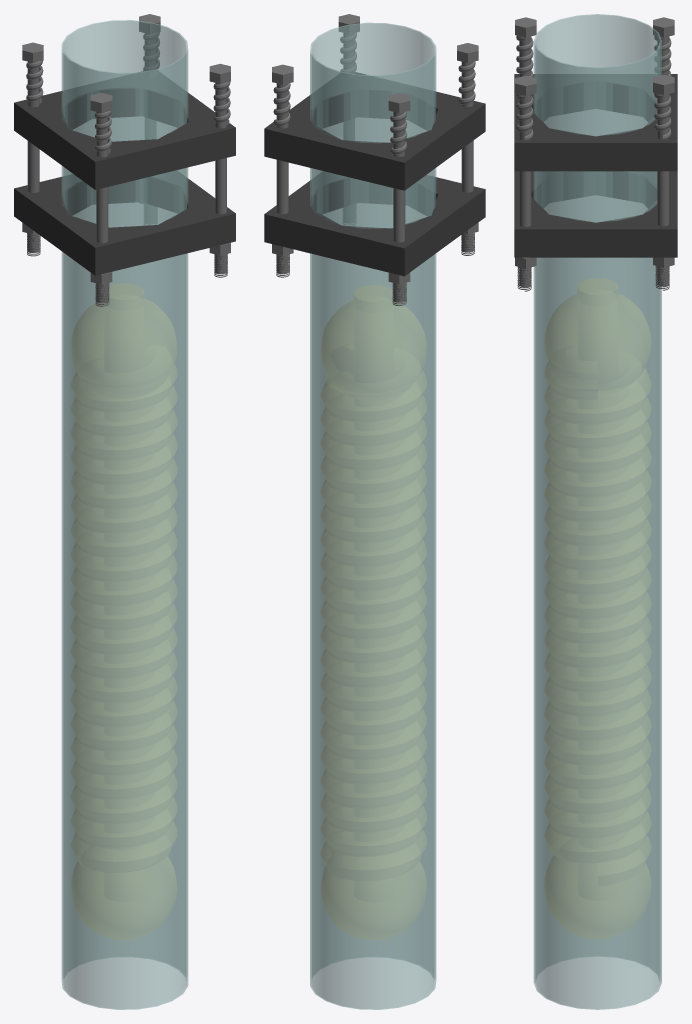
File: productcooler.fbx
3 views of the same model, side by side, from view 1: azimuth 30°, elevation 25°; view 2: azimuth 150°, elevation 25°; view 3: azimuth 270°, elevation 25° (orthographic).
Visible parts, largest first — view 1: pPipe1, pHelix1, pPipe3, pPipe2, pSphere1, pCylinder2 (×3), pSphere2; view 2: pPipe1, pHelix1, pPipe3, pPipe2, pSphere1, pCylinder2 (×3), pSphere2; view 3: pPipe1, pHelix1, pPipe3, pPipe2, pSphere1, pSphere2, pCylinder2 (×2), pDisc1 (×4), pHelix4 (×3), pCylinder1.
Boxes of the visible parts, left/top/right/bottom form: pPipe1: left=61, top=20, right=188, bottom=1009; pHelix1: left=71, top=365, right=176, bottom=872; pPipe3: left=14, top=71, right=235, bottom=189; pPipe2: left=14, top=171, right=235, bottom=275; pSphere1: left=71, top=857, right=176, bottom=939; pCylinder2 (×3): left=27, top=61, right=226, bottom=302; pSphere2: left=71, top=299, right=176, bottom=373; pPipe1: left=310, top=22, right=436, bottom=1009; pHelix1: left=321, top=371, right=426, bottom=880; pPipe3: left=264, top=72, right=485, bottom=190; pPipe2: left=264, top=172, right=485, bottom=276; pSphere1: left=321, top=862, right=426, bottom=939; pCylinder2 (×3): left=276, top=62, right=473, bottom=301; pSphere2: left=321, top=301, right=426, bottom=381; pPipe1: left=533, top=14, right=661, bottom=1009; pHelix1: left=545, top=363, right=650, bottom=866; pPipe3: left=514, top=74, right=677, bottom=171; pPipe2: left=514, top=171, right=677, bottom=257; pSphere1: left=544, top=856, right=650, bottom=938; pSphere2: left=544, top=294, right=650, bottom=374; pCylinder2 (×2): left=519, top=94, right=669, bottom=287; pDisc1 (×4): left=515, top=17, right=674, bottom=95; pHelix4 (×3): left=516, top=35, right=671, bottom=141; pCylinder1: left=578, top=278, right=617, bottom=295.
Size of the model in its own units: 3.06 by 19.34 by 3.04.
